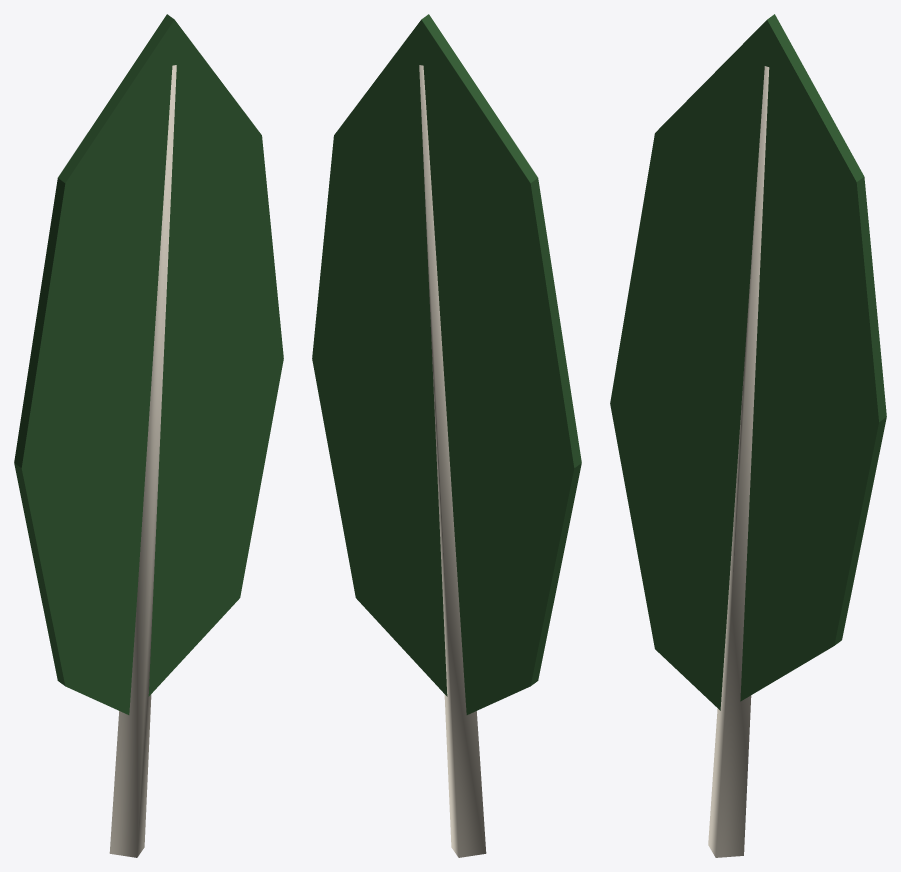
The model's file is hercules_beetle.glb.
3 views of the same model, side by side, from view 1: azimuth 30°, elevation 25°; view 2: azimuth 150°, elevation 25°; view 3: azimuth 330°, elevation 25° (orthographic). The views are drawn at different scales.
Visible parts, largest first — view 1: hercules_beetle_v0; view 2: hercules_beetle_v0; view 3: hercules_beetle_v0.
Boxes of the visible parts, x1=… form: hercules_beetle_v0: x1=14, y1=14, x2=283, y2=857; hercules_beetle_v0: x1=312, y1=14, x2=581, y2=857; hercules_beetle_v0: x1=610, y1=14, x2=886, y2=857.
Size of the model in its own units: 0.12 by 0.3605 by 0.016.
